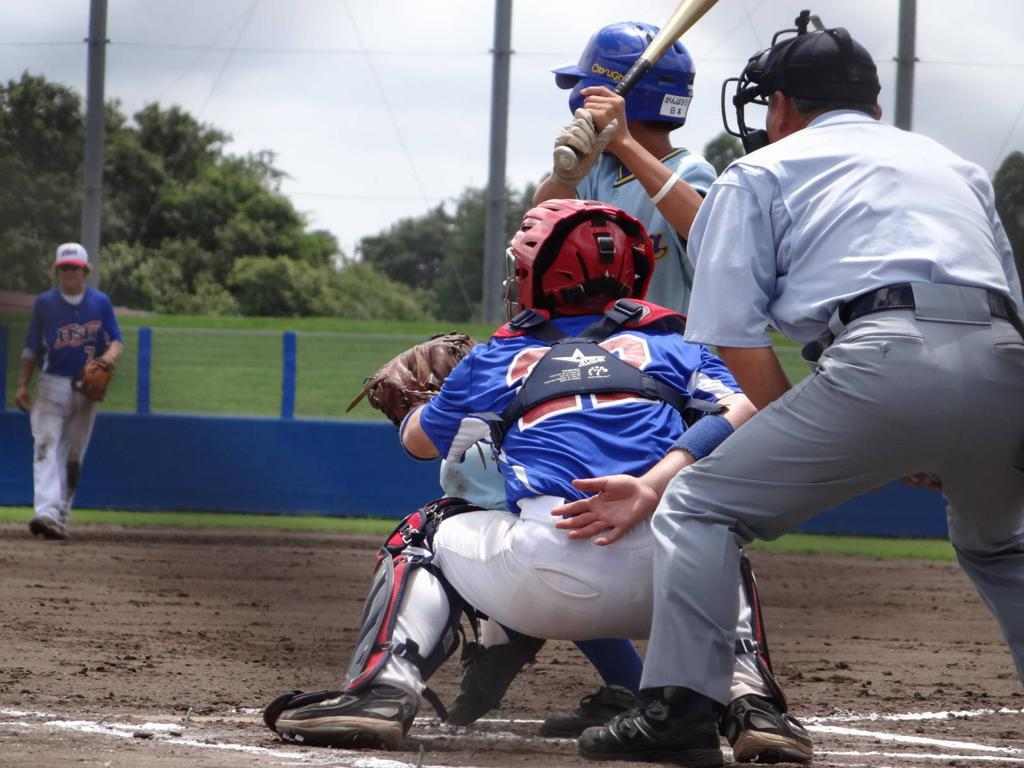face: (59, 261, 82, 293)
